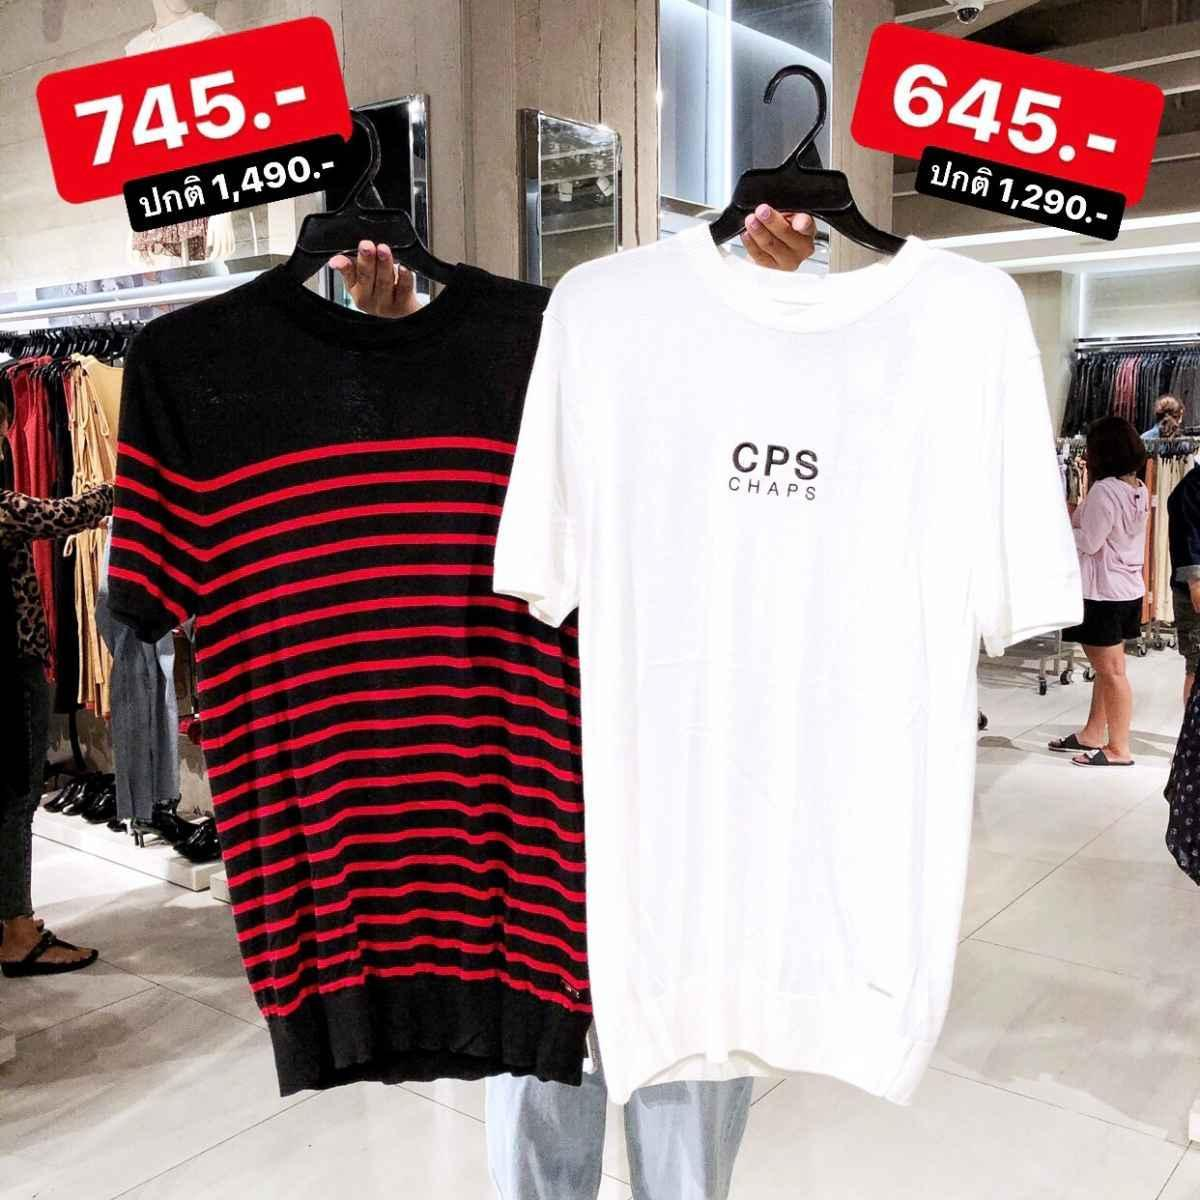Tshirt: (527, 233, 1077, 1077), (98, 256, 587, 1087)
